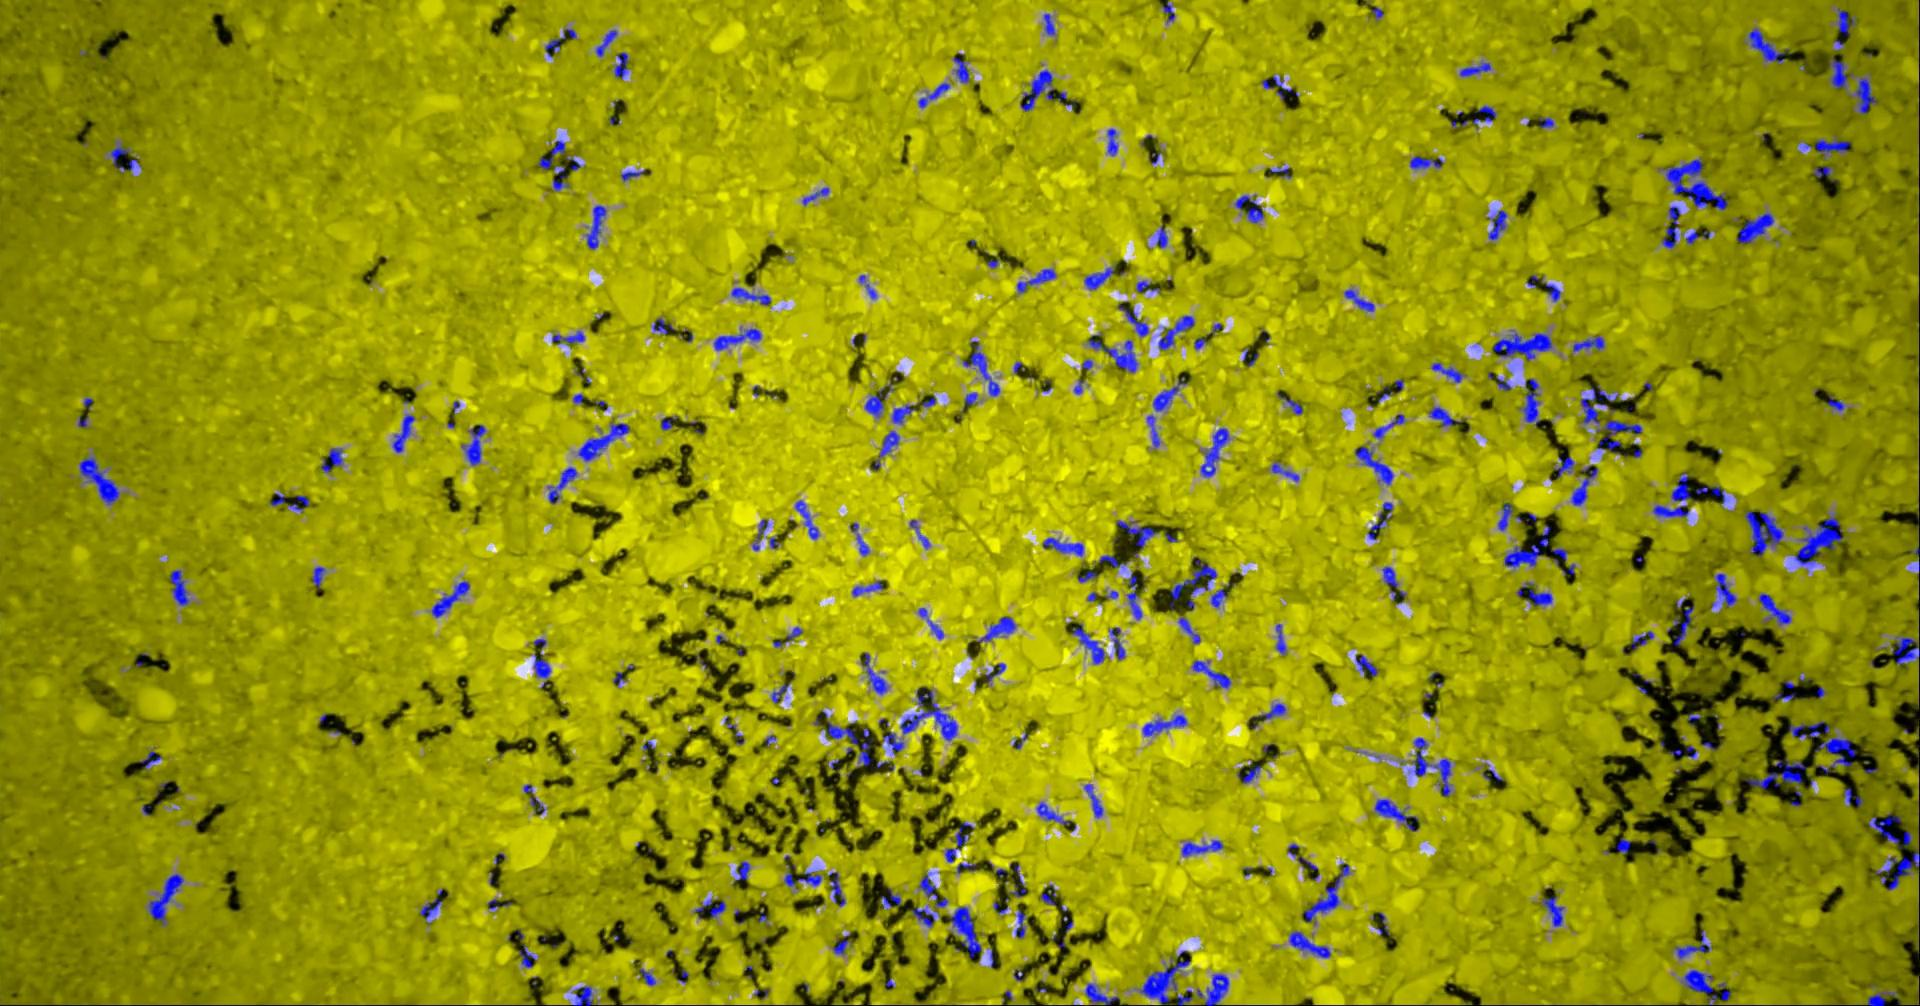ant: (902, 687, 959, 741), (1305, 862, 1351, 923), (1142, 950, 1192, 1005), (1171, 558, 1218, 610), (1796, 516, 1844, 564), (1415, 737, 1451, 796), (1747, 760, 1807, 795), (579, 422, 631, 461), (964, 340, 1001, 395), (829, 721, 872, 766), (1506, 525, 1552, 567), (81, 457, 121, 504), (1090, 334, 1139, 371), (150, 873, 185, 923), (1746, 511, 1785, 556), (1877, 848, 1920, 889), (1685, 969, 1732, 1005), (951, 906, 983, 956), (1495, 333, 1553, 359), (1356, 445, 1396, 484), (538, 140, 569, 191), (1599, 419, 1643, 453), (1817, 735, 1857, 774), (1022, 69, 1057, 111), (1870, 813, 1912, 847), (1582, 385, 1619, 423), (433, 580, 471, 617), (1377, 799, 1420, 831), (1203, 428, 1230, 476), (1073, 622, 1106, 663), (1750, 28, 1785, 64), (1161, 315, 1196, 349), (1154, 376, 1189, 412), (1117, 520, 1161, 547), (946, 822, 975, 862), (1738, 212, 1775, 243), (715, 328, 762, 351), (1573, 464, 1599, 506), (862, 652, 888, 694), (875, 431, 902, 470), (1119, 304, 1150, 337), (1291, 931, 1332, 956), (550, 466, 578, 503), (1194, 661, 1232, 687), (1760, 593, 1793, 624), (866, 382, 895, 417), (978, 616, 1017, 641), (463, 424, 488, 465), (1369, 500, 1394, 539), (1144, 714, 1189, 735), (1676, 930, 1710, 958), (1672, 605, 1695, 645), (919, 874, 949, 906), (1018, 268, 1057, 292), (1037, 801, 1074, 826), (535, 638, 552, 687), (394, 414, 417, 452), (797, 500, 820, 539), (547, 28, 578, 56), (588, 205, 607, 249), (1517, 582, 1554, 605), (1236, 194, 1265, 222), (1857, 77, 1879, 113), (1806, 138, 1851, 156), (1524, 379, 1542, 424), (422, 888, 444, 923), (112, 144, 140, 171), (1663, 206, 1683, 246), (1289, 843, 1319, 869), (919, 83, 951, 107), (1206, 973, 1230, 1005), (1384, 567, 1407, 600), (1716, 573, 1738, 606), (1375, 414, 1406, 438), (1044, 537, 1084, 555), (1128, 572, 1143, 619), (1087, 983, 1120, 1005), (1895, 636, 1920, 664), (733, 287, 772, 305), (1183, 840, 1224, 856), (1346, 290, 1377, 311), (171, 570, 190, 605), (1432, 362, 1464, 382), (696, 898, 728, 918), (1831, 58, 1853, 88), (1086, 267, 1115, 288), (1790, 721, 1831, 737), (1544, 895, 1564, 926), (1274, 75, 1299, 99), (1277, 391, 1304, 414), (1431, 406, 1463, 426), (775, 626, 804, 647), (1086, 784, 1103, 817), (597, 29, 618, 56), (910, 520, 931, 547), (786, 871, 823, 887), (1490, 210, 1509, 239), (1258, 702, 1288, 721), (323, 447, 344, 473), (1180, 617, 1201, 643), (829, 873, 846, 906), (1272, 462, 1300, 481), (1672, 473, 1691, 500), (1110, 627, 1126, 659), (1012, 864, 1029, 895), (1697, 485, 1727, 502), (1839, 8, 1857, 36), (884, 730, 905, 753), (804, 187, 830, 205), (1357, 654, 1379, 676), (754, 520, 770, 550), (893, 404, 917, 423), (1239, 763, 1263, 782), (912, 907, 936, 926), (955, 53, 970, 83), (1575, 337, 1606, 351), (985, 663, 1007, 683), (573, 984, 594, 1005), (1474, 105, 1497, 124), (1411, 155, 1445, 168), (1462, 62, 1492, 76), (1498, 502, 1514, 530), (855, 580, 885, 594), (1655, 504, 1691, 516), (1775, 680, 1796, 700), (1556, 456, 1575, 478), (1633, 630, 1655, 649), (1490, 372, 1512, 390), (1868, 991, 1896, 1005), (1148, 415, 1161, 446), (1845, 788, 1865, 807), (883, 887, 902, 907), (552, 332, 585, 343), (1100, 554, 1129, 567), (1211, 588, 1230, 607), (834, 935, 853, 954), (142, 751, 163, 768), (654, 318, 676, 334), (729, 723, 745, 744), (521, 945, 537, 967), (290, 495, 311, 511), (616, 52, 629, 77), (1671, 744, 1697, 757), (1688, 229, 1710, 243), (1377, 912, 1390, 935), (1545, 282, 1562, 301), (928, 619, 945, 638), (773, 683, 790, 702), (1277, 622, 1288, 653), (312, 567, 326, 588), (1552, 547, 1570, 564), (1138, 279, 1161, 292), (1484, 768, 1507, 781), (1043, 884, 1057, 904), (1017, 909, 1027, 937), (622, 169, 646, 180), (1163, 0, 1176, 22), (1079, 568, 1101, 580), (1109, 128, 1119, 155), (1829, 395, 1846, 410), (737, 861, 750, 880), (531, 796, 546, 813), (1618, 837, 1633, 854), (641, 968, 657, 984), (662, 415, 679, 429), (1045, 13, 1057, 34), (858, 533, 870, 555), (1158, 226, 1170, 246), (1178, 989, 1194, 1005), (1271, 166, 1293, 177), (270, 493, 287, 506), (1815, 165, 1832, 177), (957, 862, 977, 873), (965, 392, 978, 406), (1540, 116, 1556, 127)
